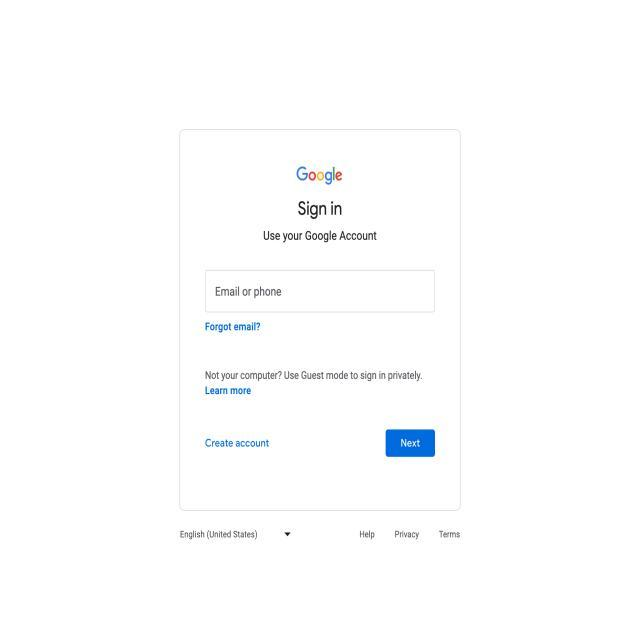input field: (202, 268, 436, 316), (384, 423, 436, 461)
link: (200, 378, 258, 400)
